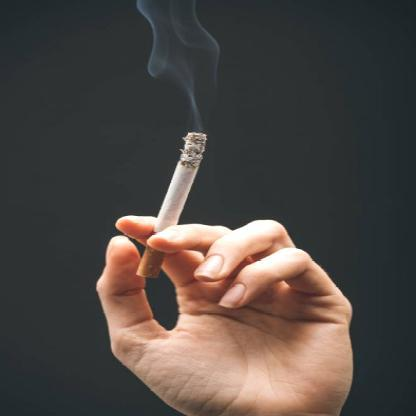cigarette: (135, 131, 212, 282)
smoke: (135, 0, 224, 103)
